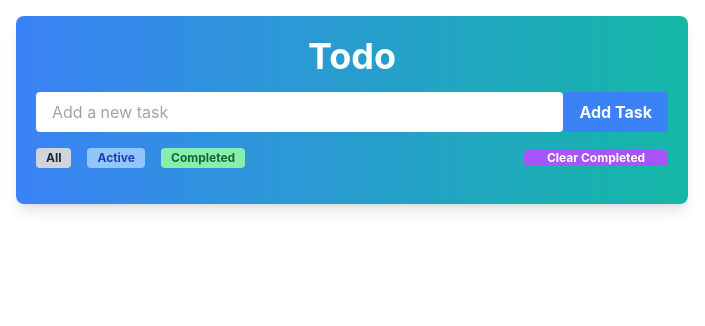
ToDo Component › allows users to filter tasks
The width and height of the screenshot is (705, 326).
Type "Active Task" into the field with placeholder "Add a new task". click: (300, 112)
box: x1=36 y1=92 x2=563 y2=132
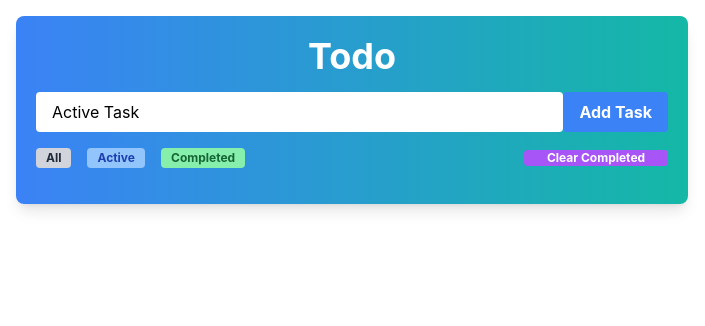
Click the button "Add Task". click: click(616, 112)
box: x1=563 y1=92 x2=668 y2=132
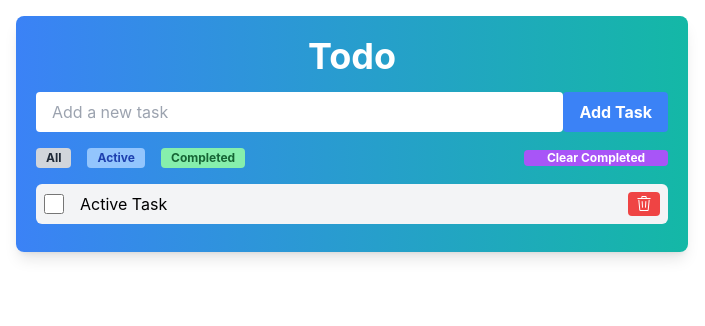
Type "Completed Task" into the field with placeholder "Add a new task". click: (300, 112)
box: x1=36 y1=92 x2=563 y2=132
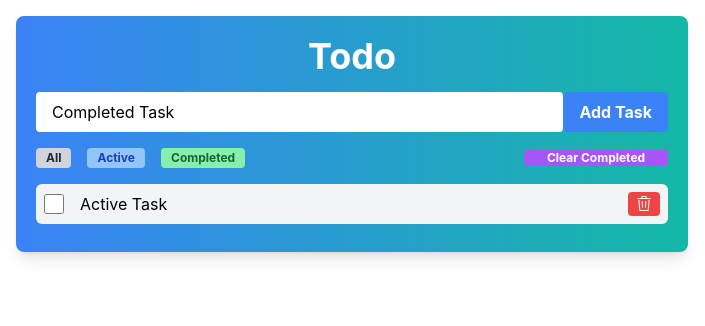
Click the button "Add Task". click: click(616, 112)
box: x1=563 y1=92 x2=668 y2=132
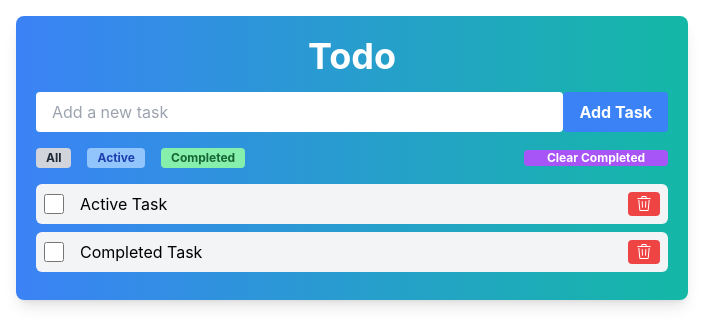
Click the checkbox next to "Completed Task". click: click(54, 252)
box: x1=44 y1=242 x2=64 y2=262
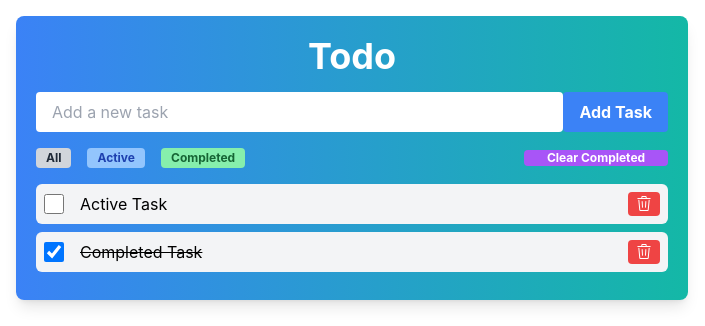
Click the button "Completed". click: click(203, 158)
box: x1=161 y1=148 x2=245 y2=168
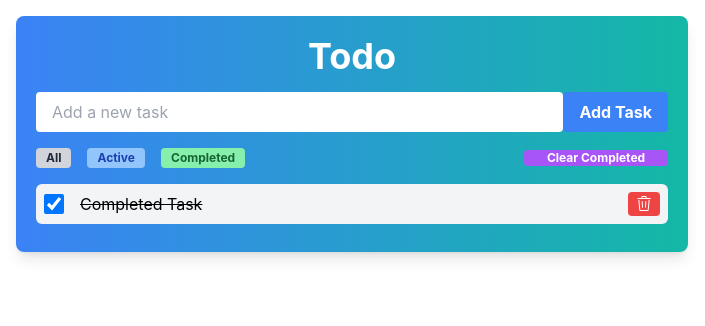
Check: the text "Completed Task" is shown, box x1=80 y1=194 x2=202 y2=214
Check: the text "Active Task" is gone
